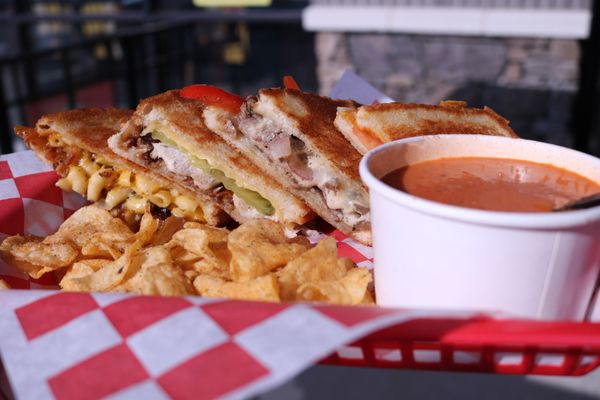soup: (234, 86, 519, 247), (114, 84, 318, 236)
sushi: (359, 131, 600, 322)
